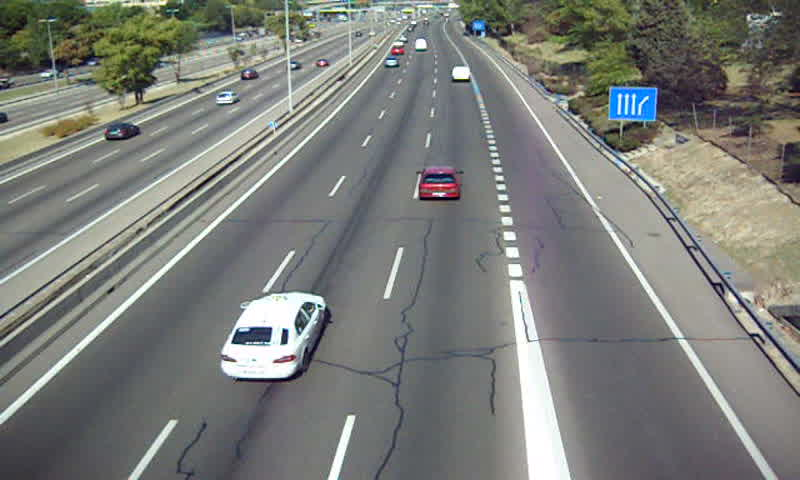car: (220, 292, 325, 379), (419, 168, 461, 200), (383, 56, 399, 68)
van: (451, 65, 471, 82)
